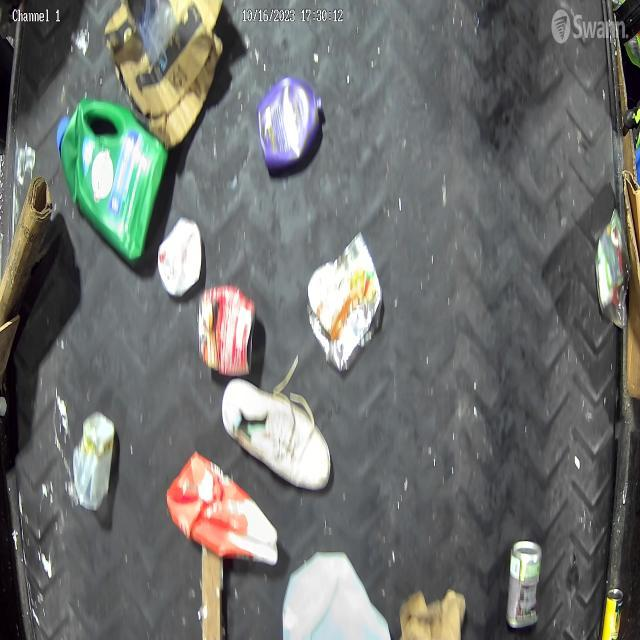can: (282, 548, 389, 640), (196, 290, 266, 386), (502, 527, 547, 640)
non_white_jug: (54, 96, 165, 268), (258, 79, 324, 175)
